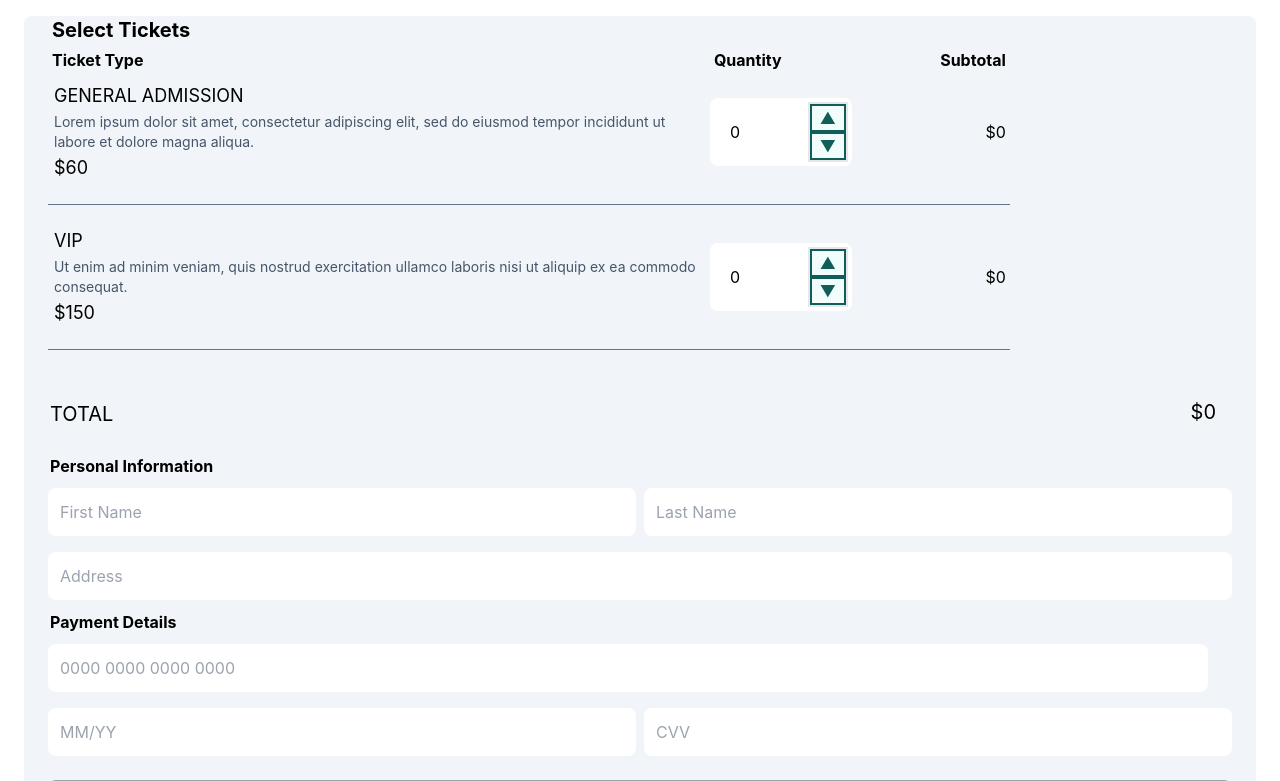
Scenario: BandForm › shows correct quantity when increment button is clicked
Click the button with test id "increment-button-general" at (828, 118), box [810,104,846,132]
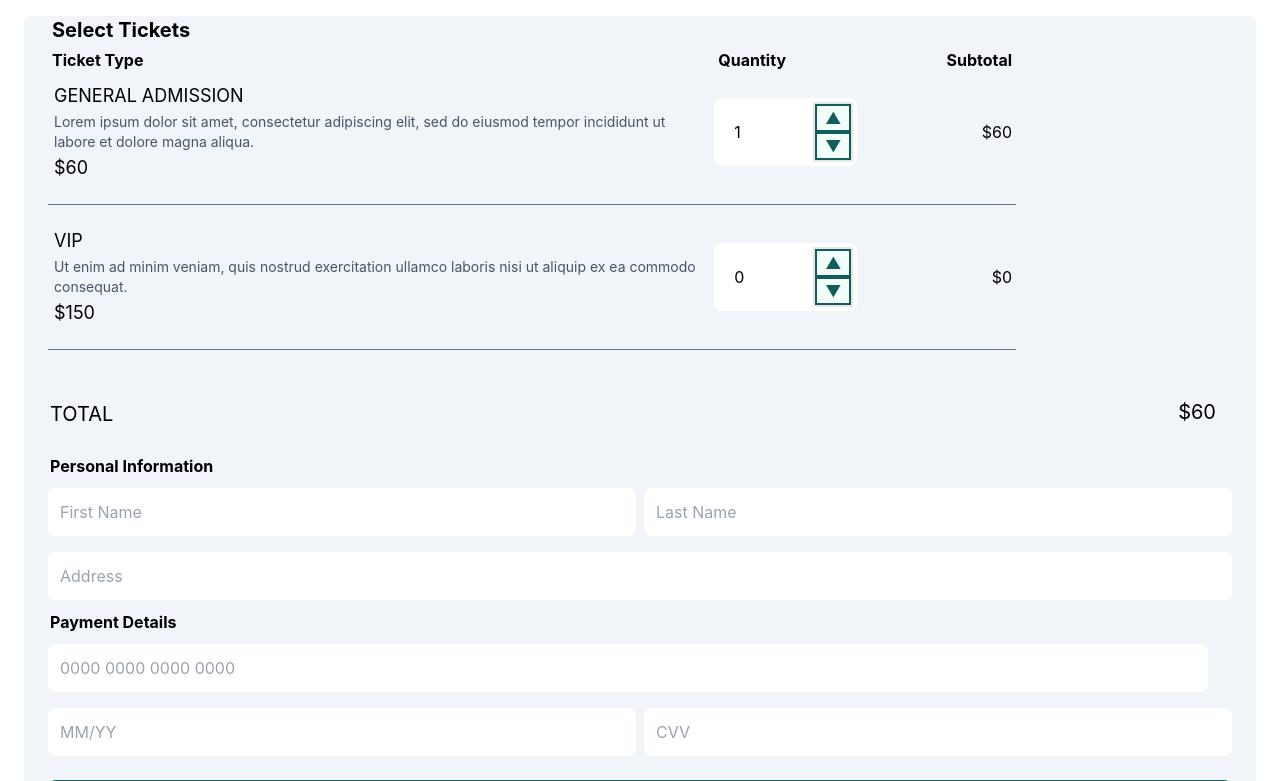
Now the text with test id "quantity-general" reads "1", box [734,122,741,142]
